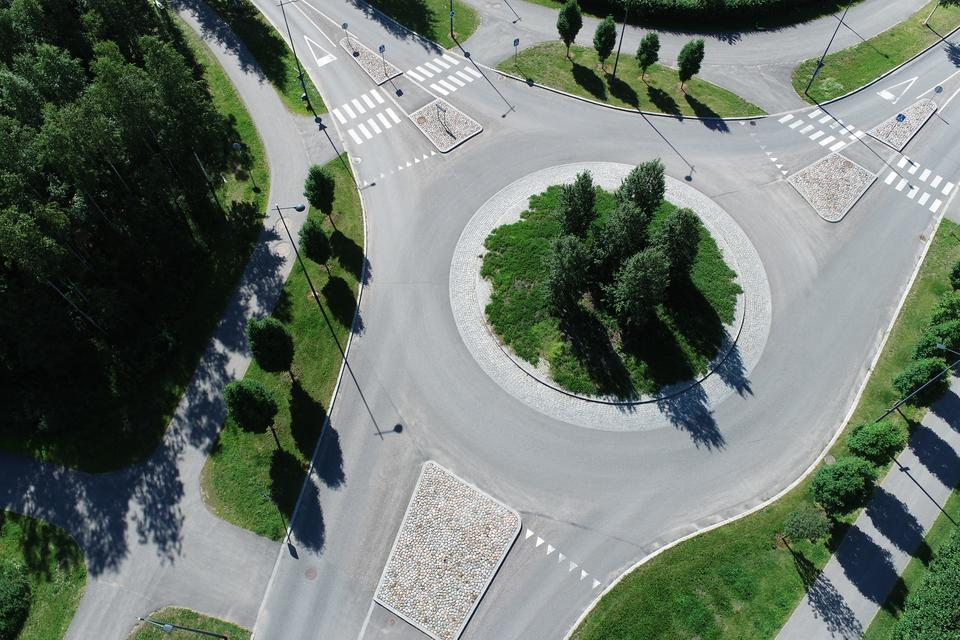intersection: (749, 56, 955, 240), (307, 28, 500, 162)
roundabout: (342, 95, 877, 560)
